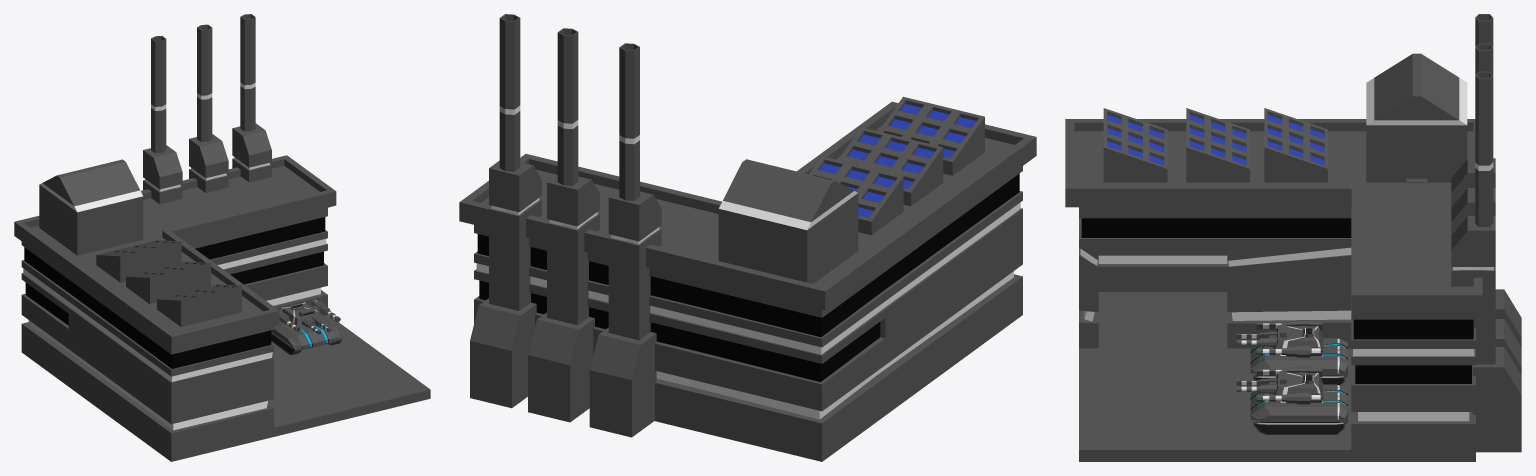
Rendered from PlazmaTankFactory.fbx.
The picture shows the model from 3 angles, left to right: view 1: azimuth 30°, elevation 25°; view 2: azimuth 150°, elevation 25°; view 3: azimuth 270°, elevation 25°; orthographic projection. The views are drawn at different scales.
Visible parts, largest first — view 1: PlazmaTankFactory; view 2: PlazmaTankFactory; view 3: PlazmaTankFactory.
Boxes of the visible parts, x1,y1,x2,y2 form: PlazmaTankFactory: (14, 14, 430, 461); PlazmaTankFactory: (459, 14, 1036, 461); PlazmaTankFactory: (1065, 14, 1521, 461).
Size of the model in its own units: 11.86 by 11.52 by 12.97.
